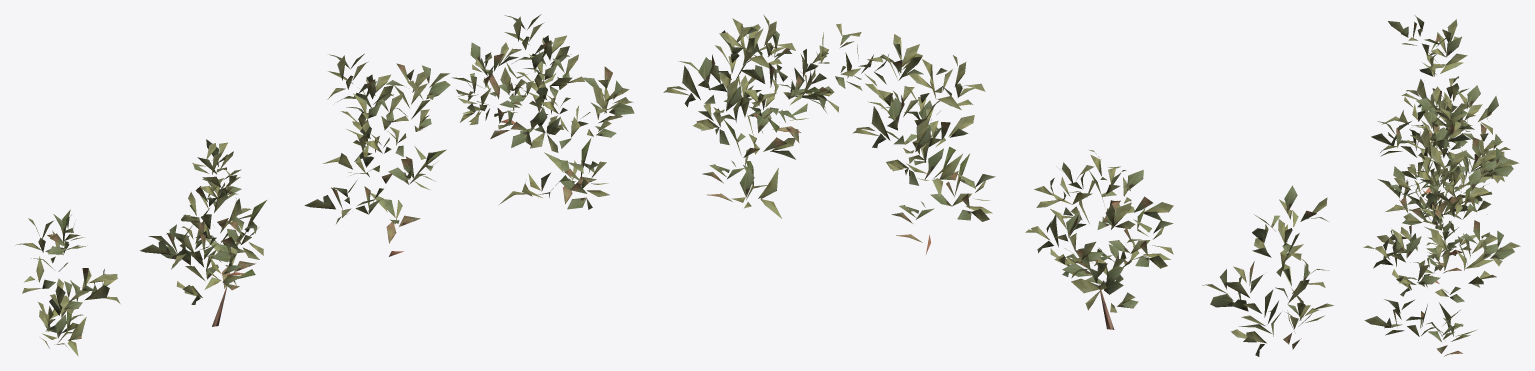
The model's file is shrub_04_lod2.glb.
3 views of the same model, side by side, from view 1: azimuth 30°, elevation 25°; view 2: azimuth 150°, elevation 25°; view 3: azimuth 270°, elevation 25° (orthographic). The views are drawn at different scales.
Visible parts, largest first — view 1: shrub_04; view 2: shrub_04; view 3: shrub_04.
Part boxes in pixels (box(x1,y1,x2,y2)): shrub_04: box(15, 14, 634, 356); shrub_04: box(663, 14, 1333, 356); shrub_04: box(1363, 15, 1520, 356).
Bounding box in the file's own units: 0.5837 × 0.2156 × 0.1461.
1 material, 1 textured.
